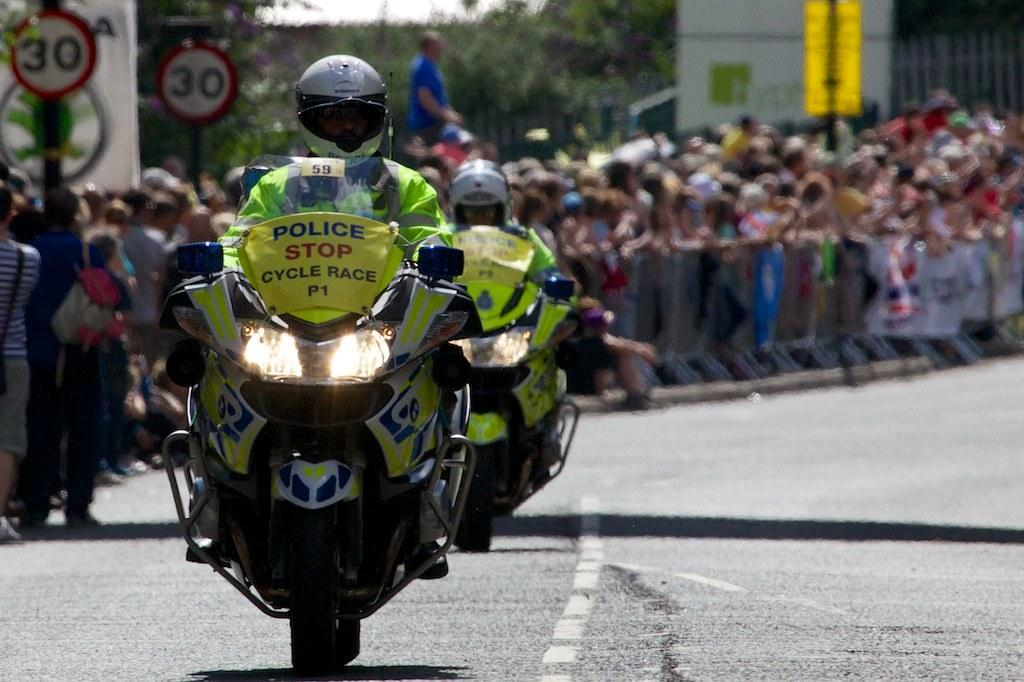helmet: (295, 54, 390, 169), (449, 158, 513, 239)
